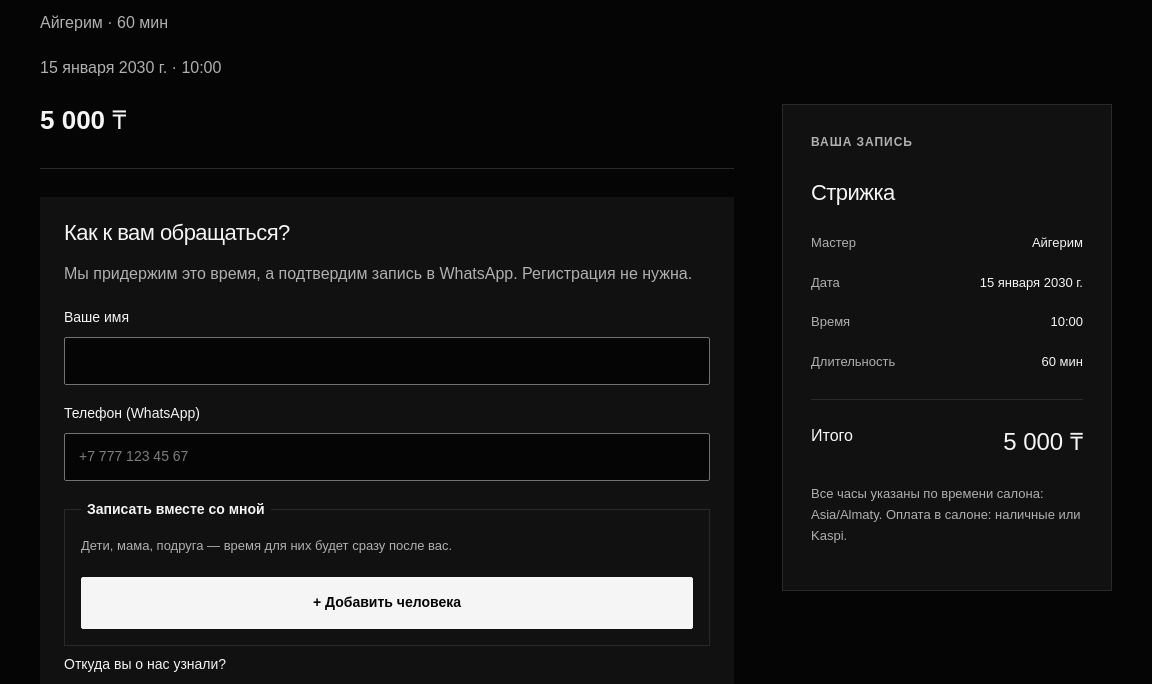
Test case: Book page: guest booking through WhatsApp › when the slot is taken, shows the error and returns to time selection
(page scrolled)
Type "Асель" into the field labelled "Ваше имя" at (387, 361), box [64, 337, 710, 385]
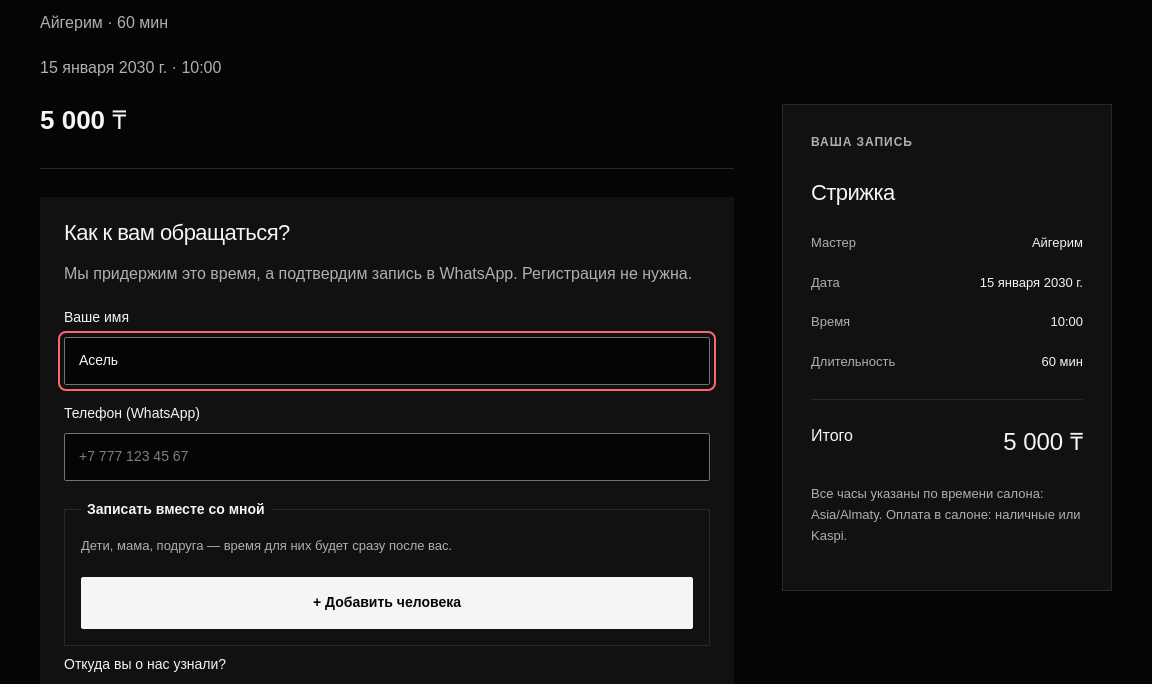
Type "+77011112233" into the field labelled "Телефон (WhatsApp)" at (387, 457), box [64, 433, 710, 481]
(page scrolled)
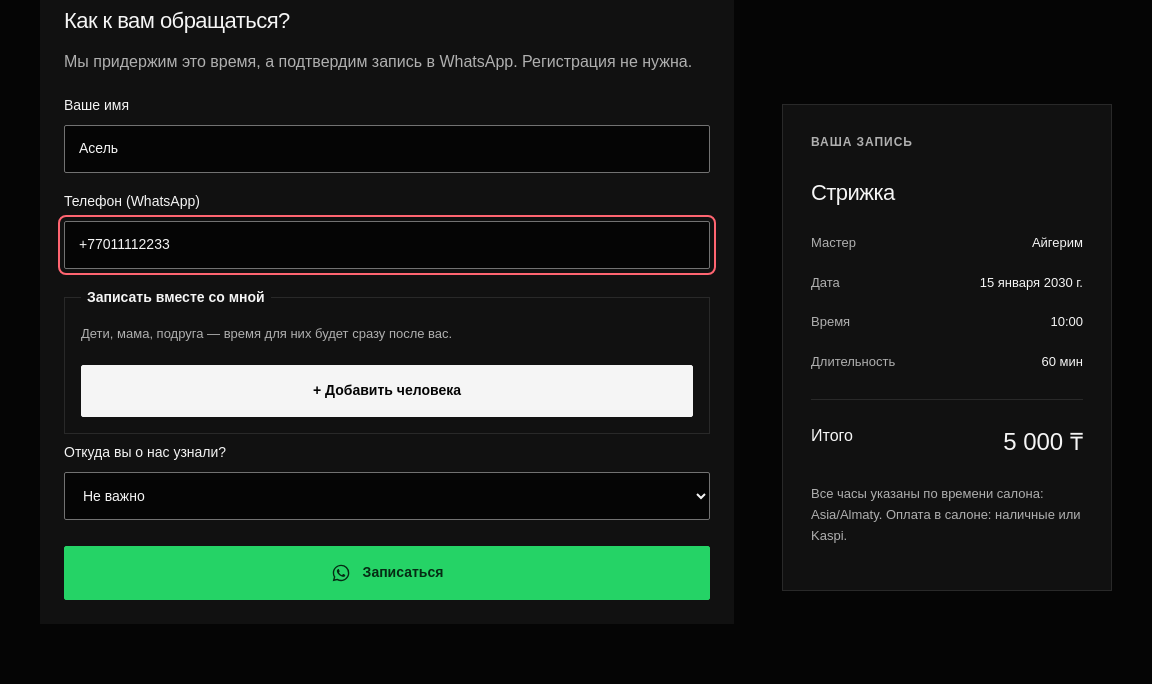
Click the button "Записаться" at (387, 573), box [64, 546, 710, 600]
(page scrolled)
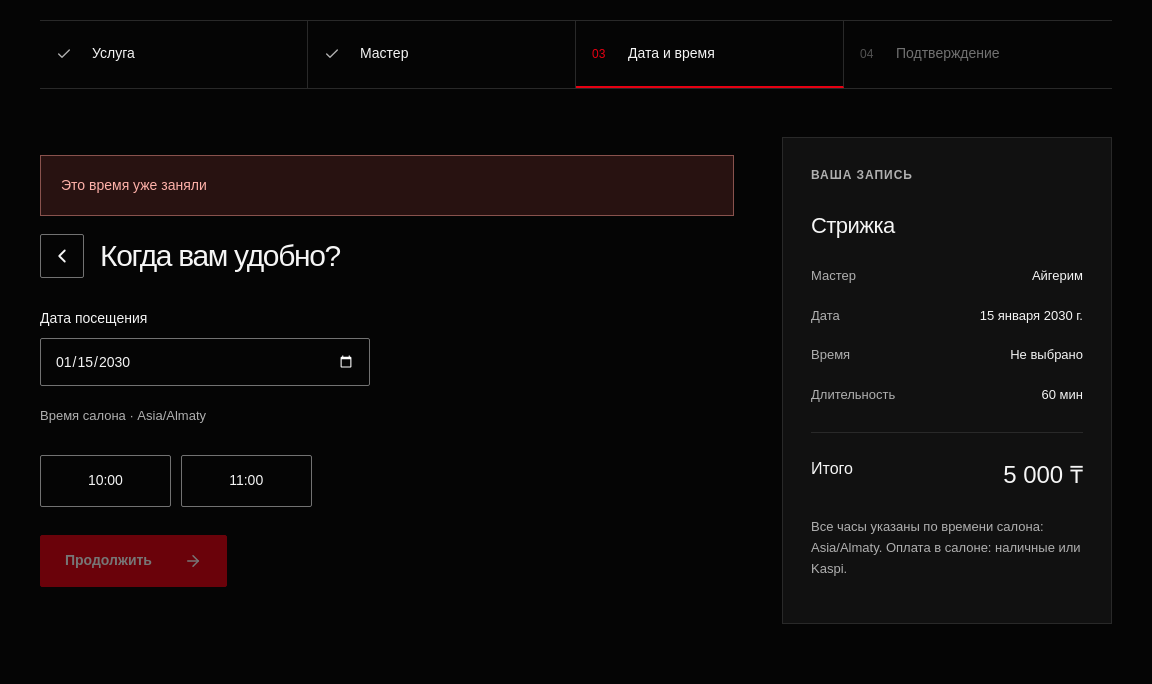
Expected: the message reads "Это время уже заняли", [61, 177, 207, 193]
Expected: the heading "Когда вам удобно?" is shown, [100, 239, 340, 273]
